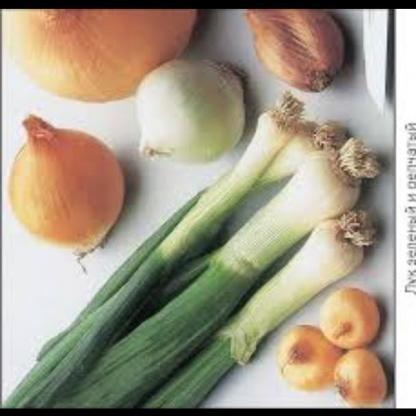onion: (2, 9, 203, 102), (0, 125, 129, 262), (132, 52, 242, 168), (240, 9, 350, 85), (268, 314, 338, 398), (314, 285, 380, 351), (324, 347, 386, 406)
